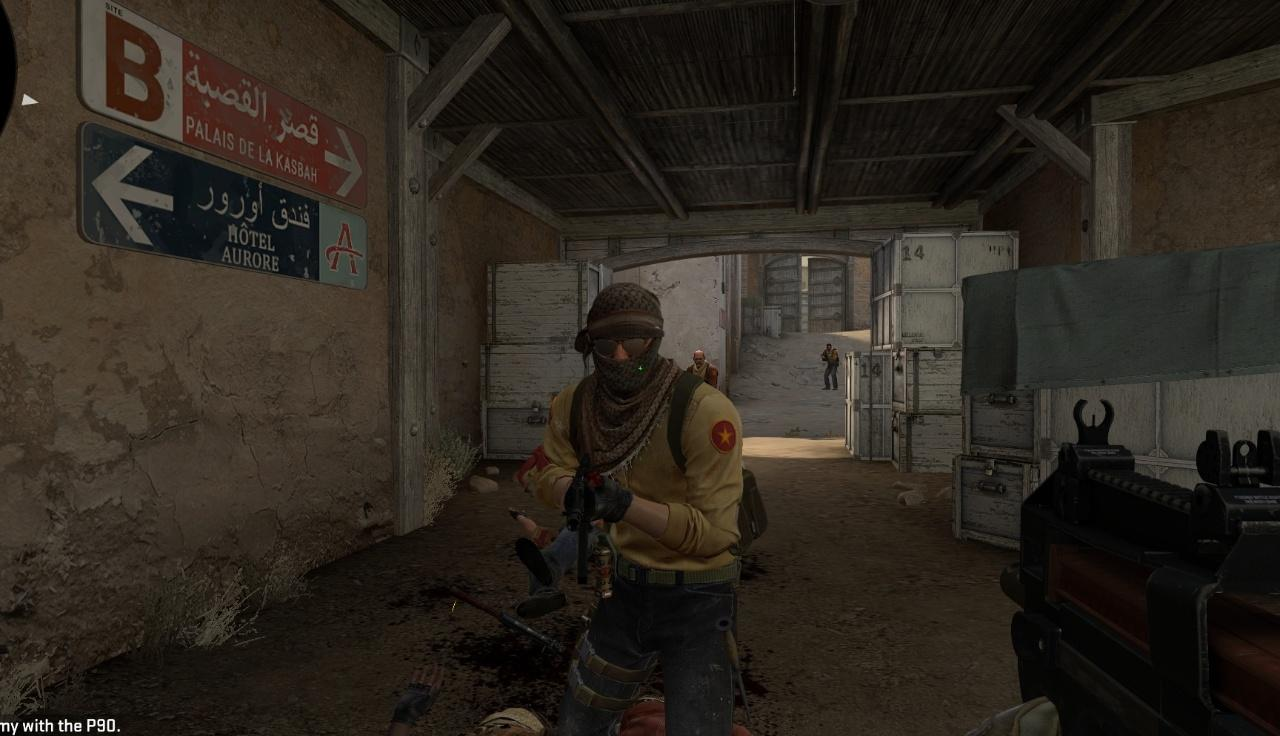rifle: (1016, 398, 1280, 736)
tt: (541, 284, 739, 736), (686, 350, 717, 387), (822, 343, 838, 390)
tthead: (585, 285, 658, 391), (694, 350, 704, 365), (827, 344, 832, 351)
